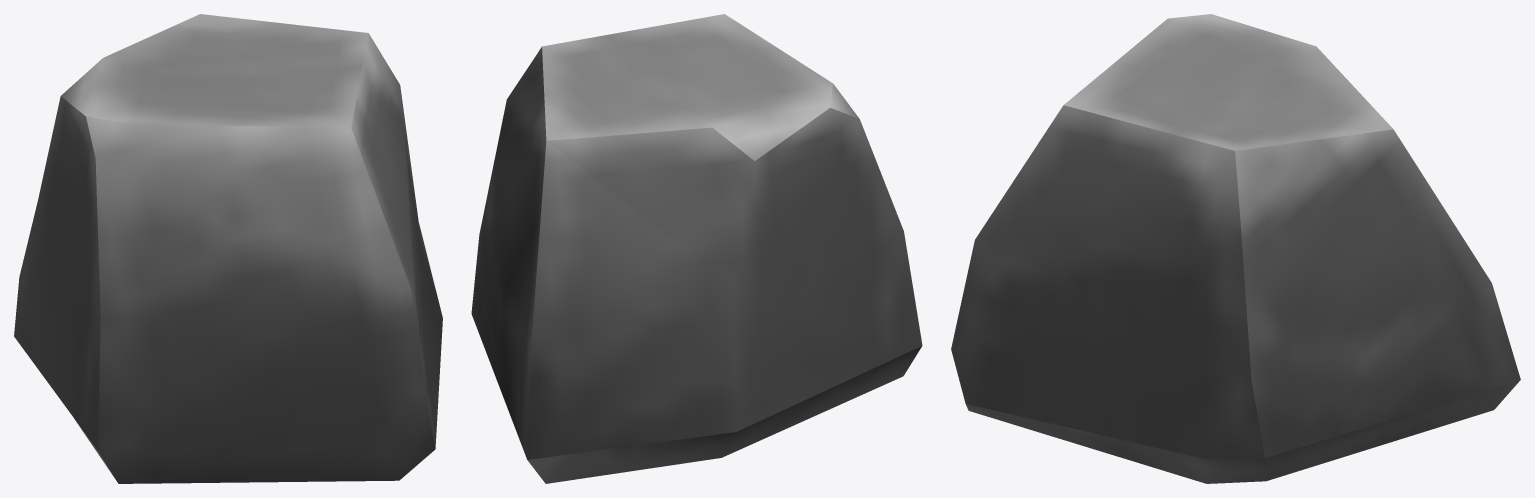
Rendered from SM_Rocks_06.obj.
The picture shows the model from 3 angles, left to right: view 1: azimuth 30°, elevation 25°; view 2: azimuth 150°, elevation 25°; view 3: azimuth 270°, elevation 25°; orthographic projection. The views are drawn at different scales.
Parts seen in each view (by area): view 1: SM_Rocks_06; view 2: SM_Rocks_06; view 3: SM_Rocks_06.
Part boxes in pixels (x1,y1,x2,y2): SM_Rocks_06: [14, 14, 442, 483]; SM_Rocks_06: [471, 14, 922, 483]; SM_Rocks_06: [951, 14, 1520, 483].
Bounding box in the file's own units: 0.2832 × 0.241 × 0.3628.
Materials: 1 (1 with a texture image).
